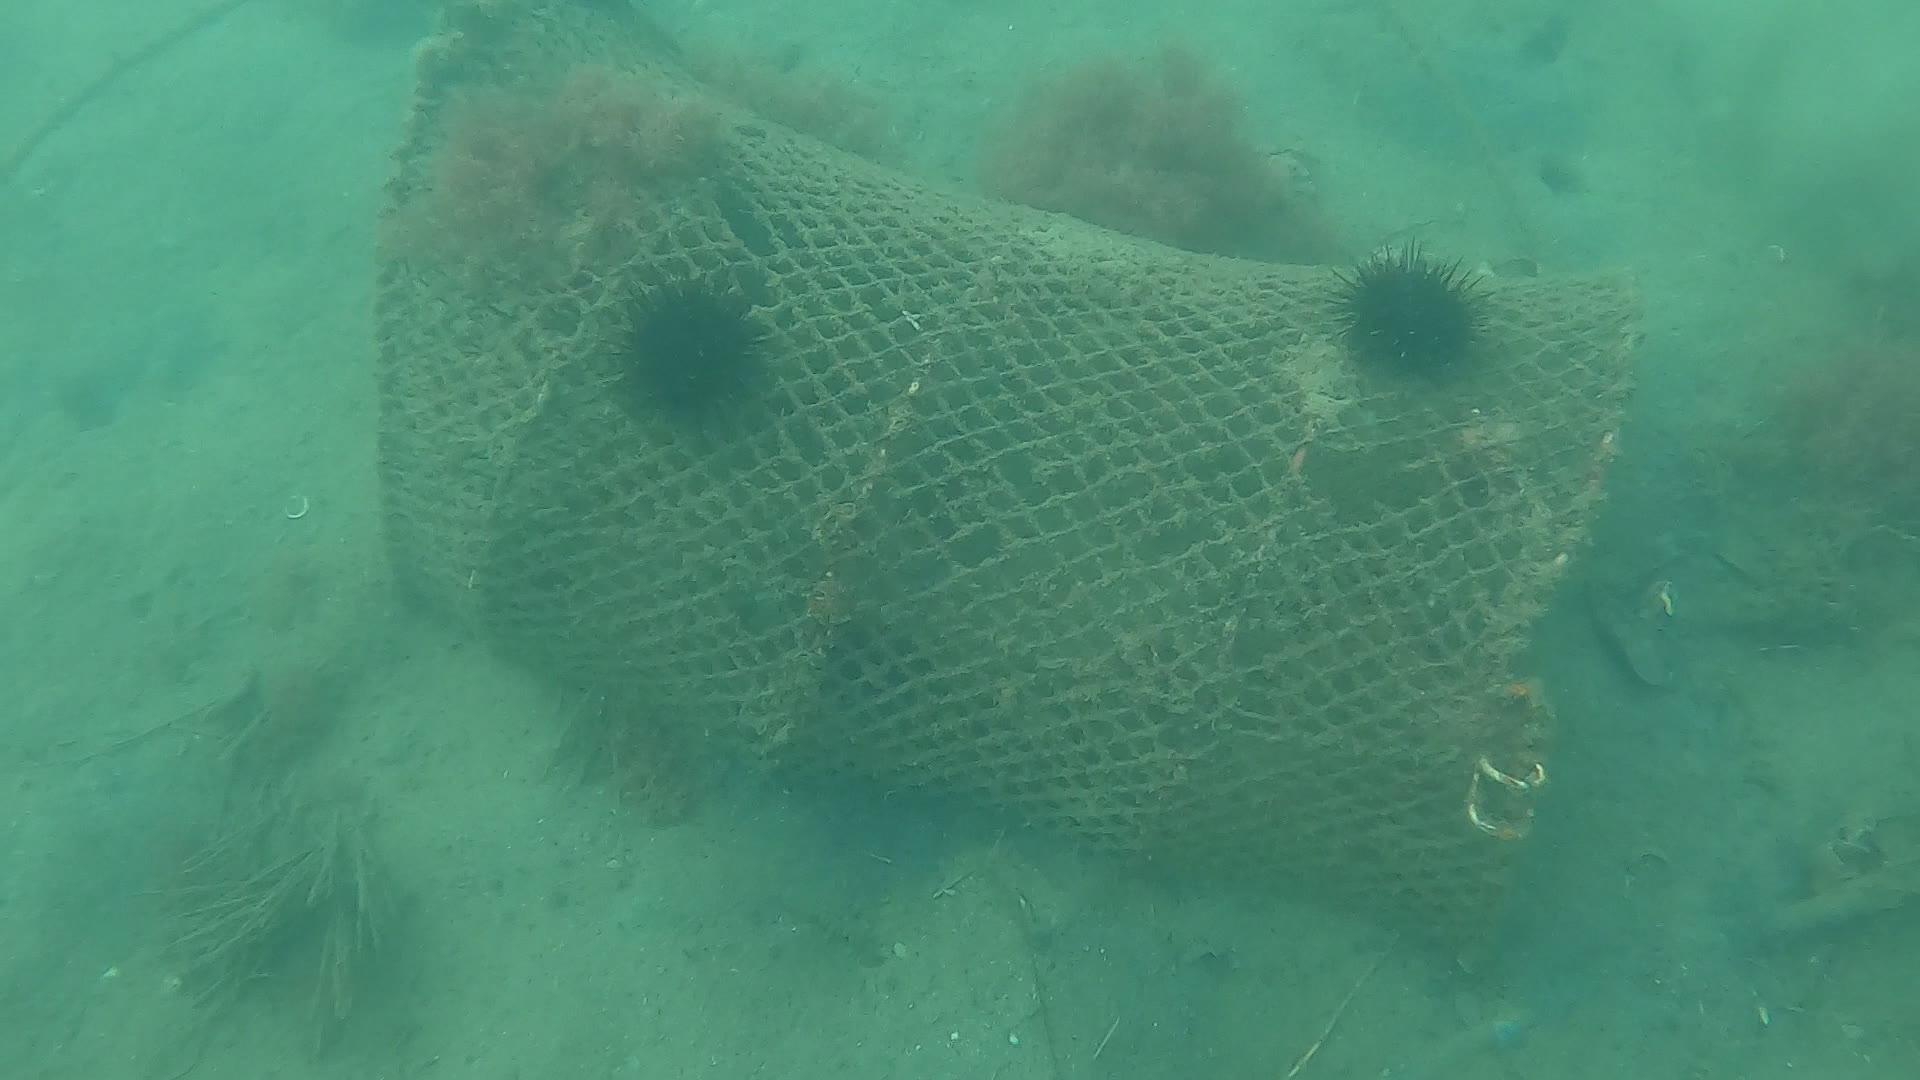spring fish trap: (373, 5, 1640, 949)
